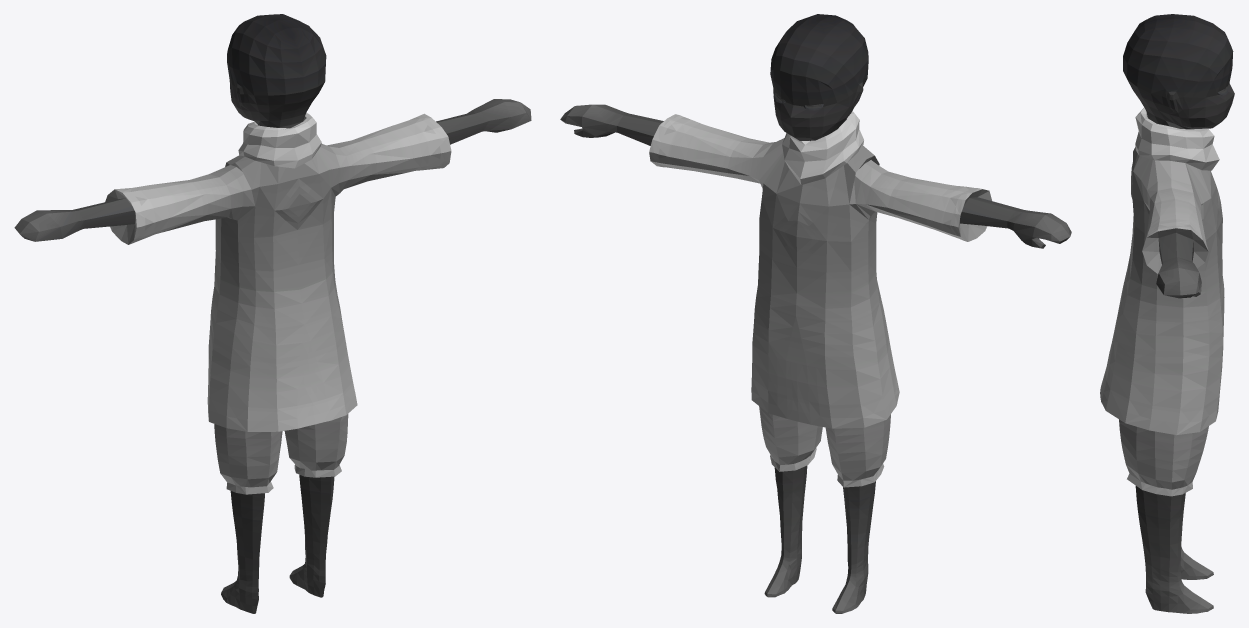
Rendered from CharSkyKid_Body_MonkPants.glb.
3 views of the same model, side by side, from view 1: azimuth 30°, elevation 25°; view 2: azimuth 150°, elevation 25°; view 3: azimuth 270°, elevation 25° (orthographic).
Parts seen in each view (by area): view 1: CharSkyKid_Body_MonkPants; view 2: CharSkyKid_Body_MonkPants; view 3: CharSkyKid_Body_MonkPants.
Boxes of the visible parts, box(x1,y1,x2,y2) form: CharSkyKid_Body_MonkPants: box(14, 14, 531, 613); CharSkyKid_Body_MonkPants: box(560, 14, 1071, 613); CharSkyKid_Body_MonkPants: box(1100, 14, 1234, 613).
Size of the model in its own units: 13.83 by 14.94 by 3.18.
Materials: 1 (1 with a texture image).
